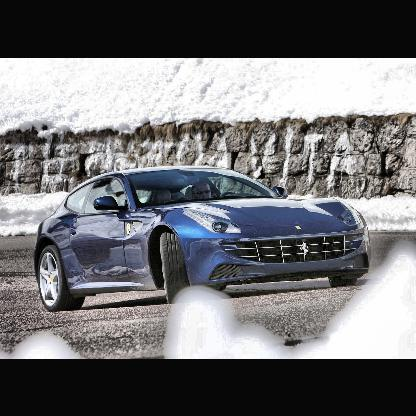Ferrari FF Coupe 2012: (34, 167, 374, 312)
